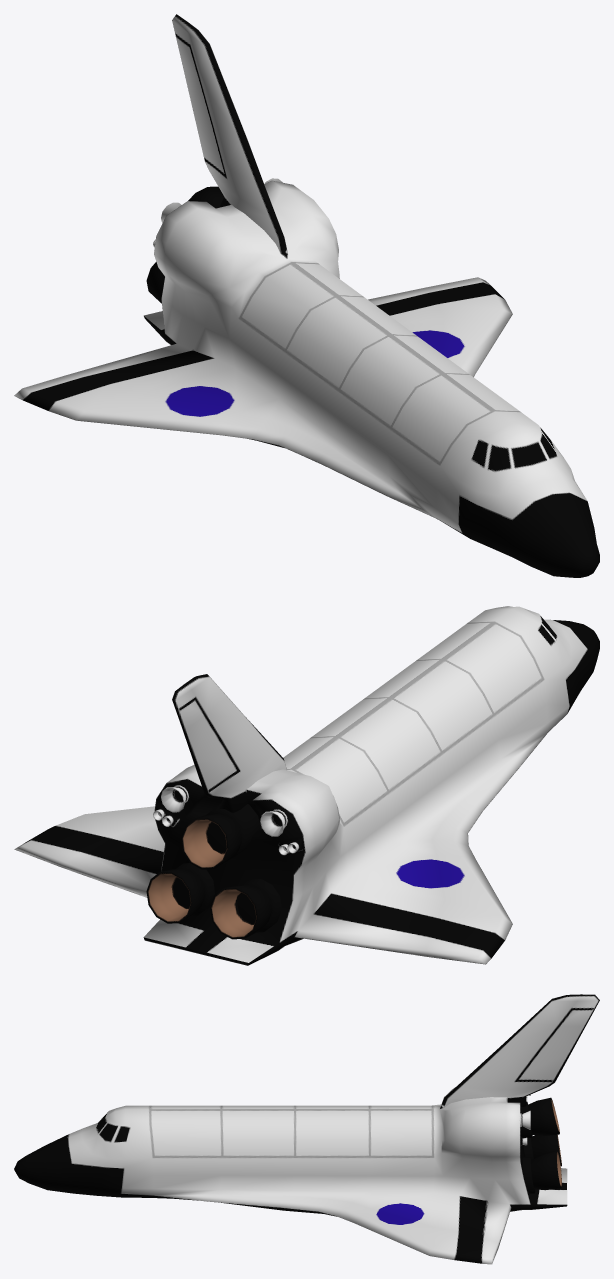
The model's file is spaceShuttle.fbx.
3 views of the same model, one above another, from view 1: azimuth 30°, elevation 25°; view 2: azimuth 150°, elevation 25°; view 3: azimuth 270°, elevation 25° (orthographic). The views are drawn at different scales.
Parts seen in each view (by area): view 1: spaceShuttleUnwrapped; view 2: spaceShuttleUnwrapped; view 3: spaceShuttleUnwrapped.
Boxes of the visible parts, x1,y1,x2,y2 form: spaceShuttleUnwrapped: (14,14,599,577); spaceShuttleUnwrapped: (14,606,599,965); spaceShuttleUnwrapped: (14,994,599,1264).
Bounding box in the file's own units: 233 × 138 × 358.
1 material, 1 textured.
